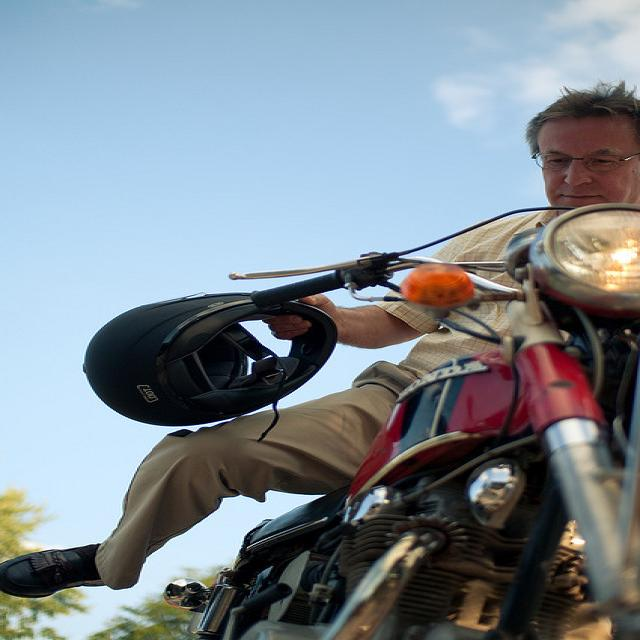motor: (160, 198, 640, 630)
